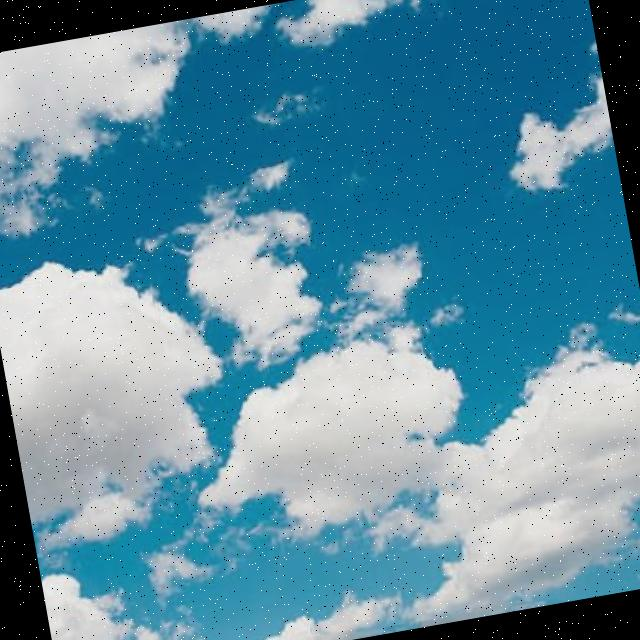Cu: (1, 1, 640, 602)
